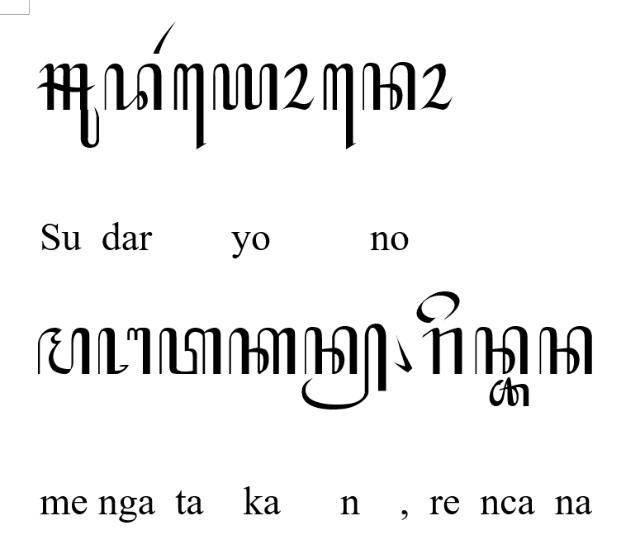-n: (299, 323, 386, 411)
Su: (36, 64, 100, 148)
_c: (488, 376, 530, 406)
_r1: (154, 22, 176, 54)
d: (104, 63, 162, 111)
e: (416, 290, 460, 324)
e1: (174, 62, 206, 150)
k: (228, 327, 296, 375)
kom: (394, 336, 412, 372)
m: (38, 326, 90, 374)
n: (474, 326, 528, 374), (538, 326, 592, 374), (362, 62, 414, 110)
nga: (98, 328, 150, 374)
o: (322, 64, 356, 151), (421, 63, 454, 111), (282, 63, 314, 111)
r: (422, 328, 463, 374)
t: (159, 326, 221, 376)
y: (214, 64, 278, 110)
